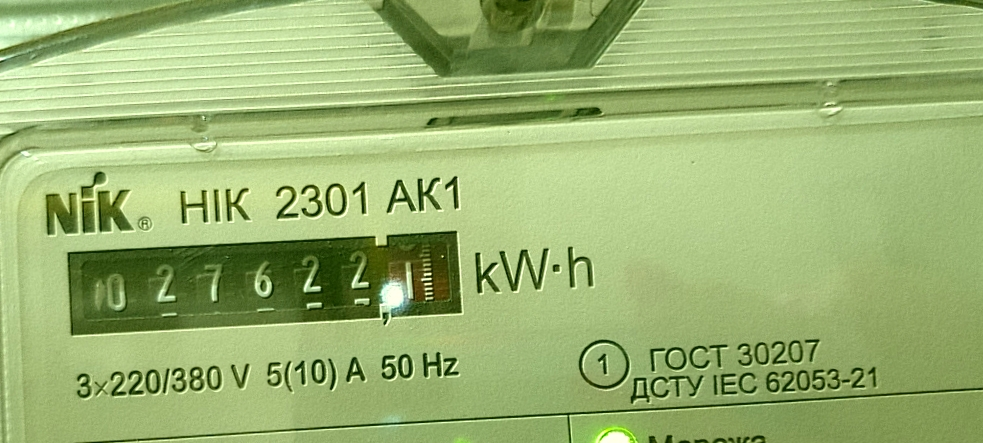0: (104, 269, 130, 313)
1: (401, 257, 419, 301)
2: (298, 252, 325, 294), (154, 261, 179, 305), (348, 248, 372, 290)
6: (251, 258, 275, 299)
7: (202, 261, 227, 305)
screen: (55, 220, 476, 342)
